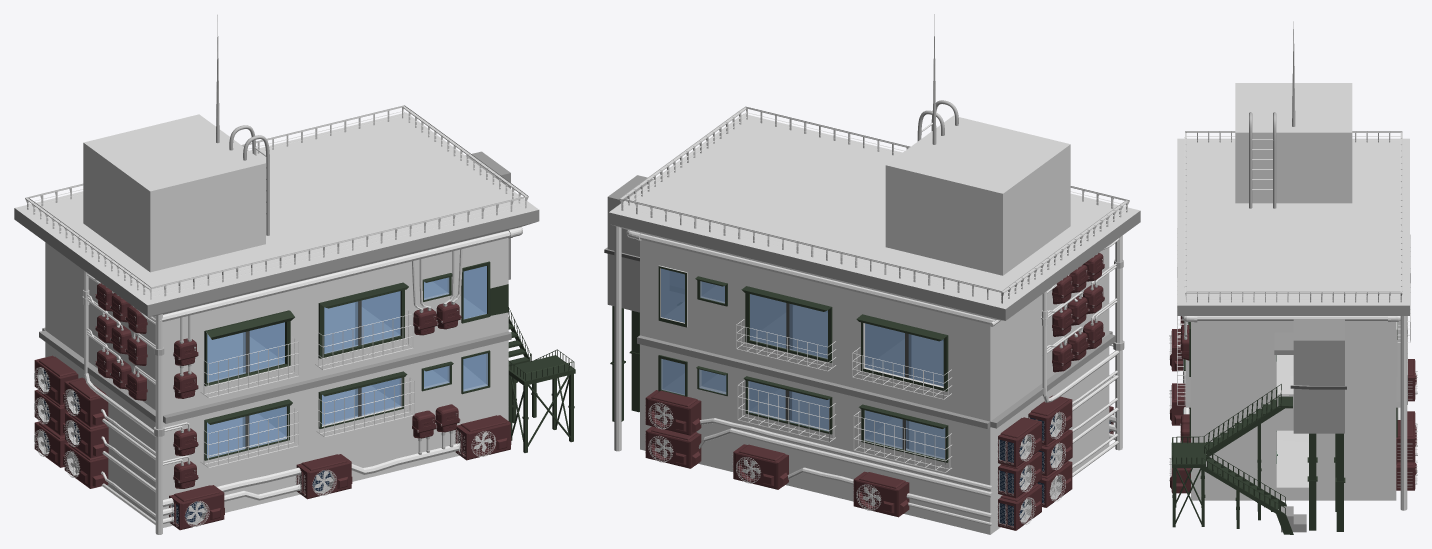
Rendered from apato.fbx.
The picture shows the model from 3 angles, left to right: view 1: azimuth 30°, elevation 25°; view 2: azimuth 150°, elevation 25°; view 3: azimuth 270°, elevation 25°; orthographic projection. The views are drawn at different scales.
Parts seen in each view (by area): view 1: mapato, hiraisin, situgaiki.007, Rsaku, gasmeta.001, gasmeta.008, mado.001, mado, pipe.015, mado.003, mado.002, pipe (+18 smaller); view 2: mapato, hiraisin, situgaiki.009, Rsaku, gasmeta.008, mado.006, mado.007, mado.005, mado.004, pipe.016, pipe.007, pipe.011 (+17 smaller); view 3: mapato, hiraisin, Rsaku, hasira, tesuri.001, pipe.007, step.001, situgaiki.009, situgaiki.007, yoko01, pipe.035, hasigo (+5 smaller).
Boxes of the visible parts, x1=… form: mapato: x1=14, y1=112, x2=539, y2=527; hiraisin: x1=83, y1=114, x2=265, y2=272; situgaiki.007: x1=64, y1=415, x2=511, y2=530; Rsaku: x1=25, y1=105, x2=528, y2=299; gasmeta.001: x1=173, y1=301, x2=461, y2=488; gasmeta.008: x1=95, y1=283, x2=147, y2=400; mado.001: x1=324, y1=291, x2=400, y2=353; mado: x1=207, y1=322, x2=284, y2=382; pipe.015: x1=160, y1=230, x2=510, y2=321; mado.003: x1=207, y1=406, x2=286, y2=458; mado.002: x1=322, y1=378, x2=401, y2=425; pipe: x1=154, y1=314, x2=164, y2=534; mapato: x1=604, y1=113, x2=1140, y2=534; hiraisin: x1=885, y1=115, x2=1070, y2=275; situgaiki.009: x1=645, y1=390, x2=909, y2=517; Rsaku: x1=619, y1=106, x2=1129, y2=303; gasmeta.008: x1=1052, y1=253, x2=1104, y2=372; mado.006: x1=750, y1=294, x2=827, y2=358; mado.007: x1=865, y1=323, x2=943, y2=386; mado.005: x1=748, y1=381, x2=829, y2=431; mado.004: x1=864, y1=410, x2=945, y2=459; pipe.016: x1=639, y1=233, x2=996, y2=325; pipe.007: x1=614, y1=226, x2=621, y2=451; pipe.011: x1=698, y1=428, x2=992, y2=497; mapato: x1=1177, y1=138, x2=1409, y2=500; hiraisin: x1=1235, y1=83, x2=1352, y2=203; Rsaku: x1=1184, y1=131, x2=1402, y2=302; hasira: x1=1172, y1=424, x2=1345, y2=531; tesuri.001: x1=1172, y1=384, x2=1285, y2=514; pipe.007: x1=1400, y1=316, x2=1407, y2=510; step.001: x1=1171, y1=442, x2=1278, y2=511; situgaiki.009: x1=1396, y1=359, x2=1416, y2=490; situgaiki.007: x1=1170, y1=329, x2=1190, y2=493; yoko01: x1=1202, y1=455, x2=1293, y2=534; pipe.035: x1=1197, y1=316, x2=1387, y2=320; hasigo: x1=1249, y1=112, x2=1276, y2=208.
Bounding box in the file's own units: 3398 × 3422 × 1939.
